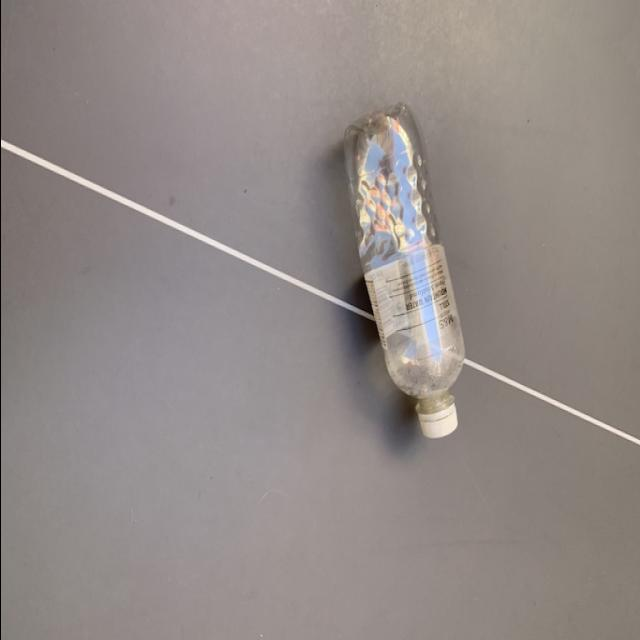litter: (341, 101, 464, 438)
